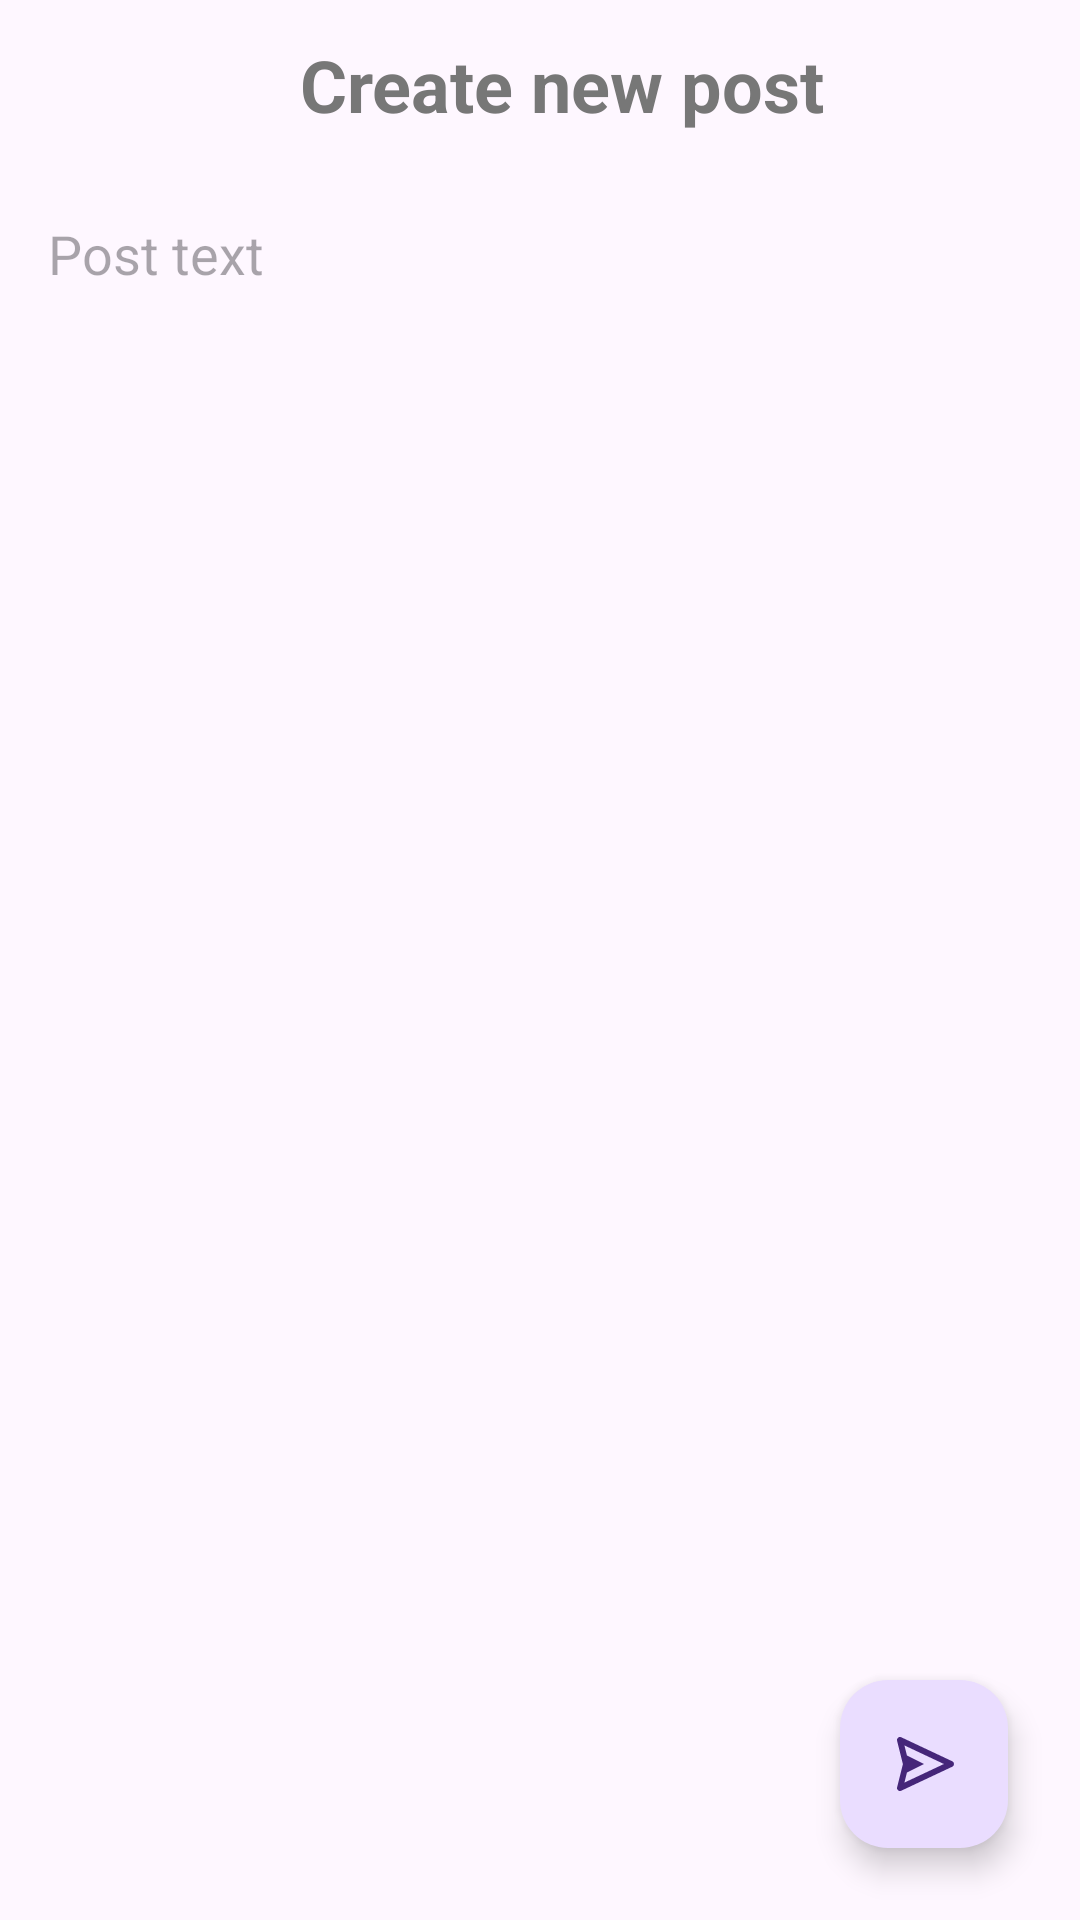

Icons on this 1080px x 1920px Android screen, each with its box as (x1, y1, x2, y2):
send: (840, 1680, 1008, 1848)
